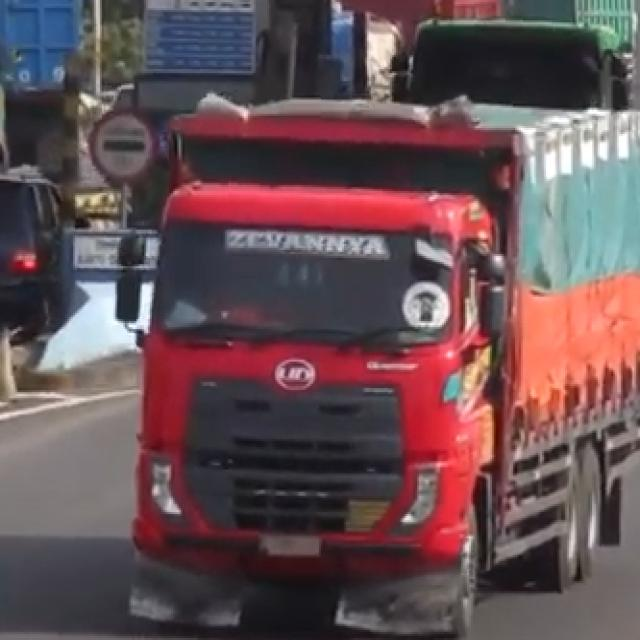Truck: (112, 73, 640, 639)
